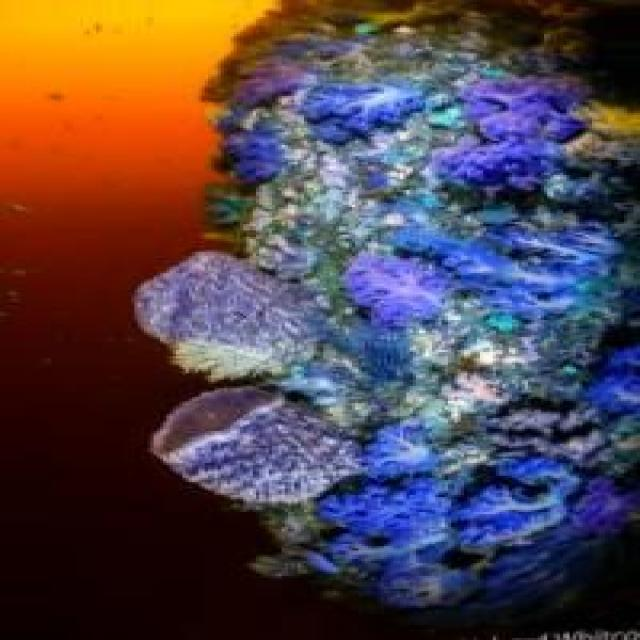Healthy: (132, 1, 640, 632)
